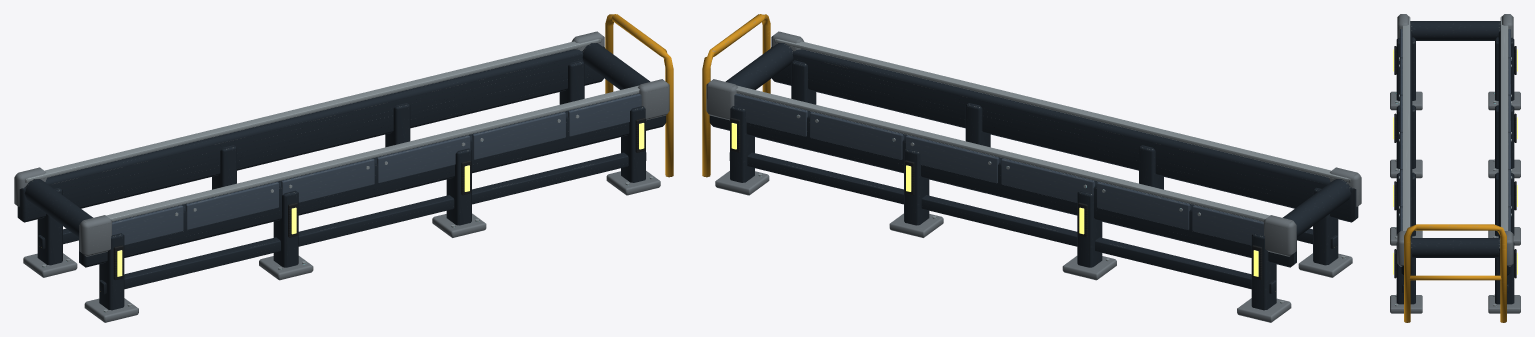
File: conveyor.glb
3 renders of one model, left to right at view 1: azimuth 30°, elevation 25°; view 2: azimuth 150°, elevation 25°; view 3: azimuth 270°, elevation 25°, orthographic. The views are drawn at different scales.
Parts seen in each view (by area): view 1: Conveyor_Frame, Conveyor_IntakeGuard; view 2: Conveyor_Frame, Conveyor_IntakeGuard; view 3: Conveyor_Frame, Conveyor_IntakeGuard.
Boxes of the visible parts, x1,y1,x2,y2 form: Conveyor_Frame: (14, 31, 669, 322); Conveyor_IntakeGuard: (605, 14, 673, 177); Conveyor_Frame: (706, 31, 1361, 322); Conveyor_IntakeGuard: (702, 14, 770, 177); Conveyor_Frame: (1390, 14, 1520, 313); Conveyor_IntakeGuard: (1404, 224, 1506, 322).
Bounding box in the file's own units: 5.7 × 1.11 × 1.36.
2 materials, 2 textured.
